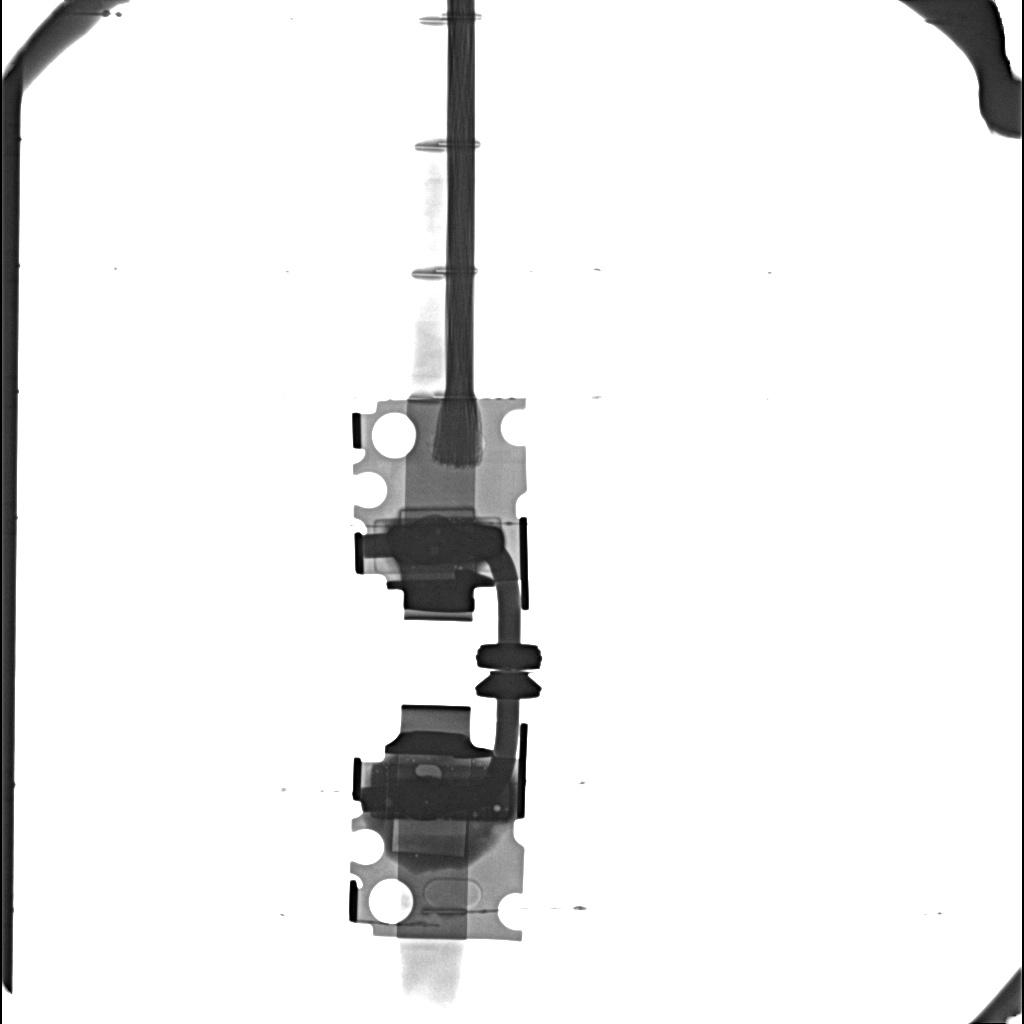气孔: (389, 821, 469, 859), (399, 507, 476, 521)
气泡: (415, 765, 441, 779)
水纹: (372, 766, 511, 819), (386, 523, 503, 564)
